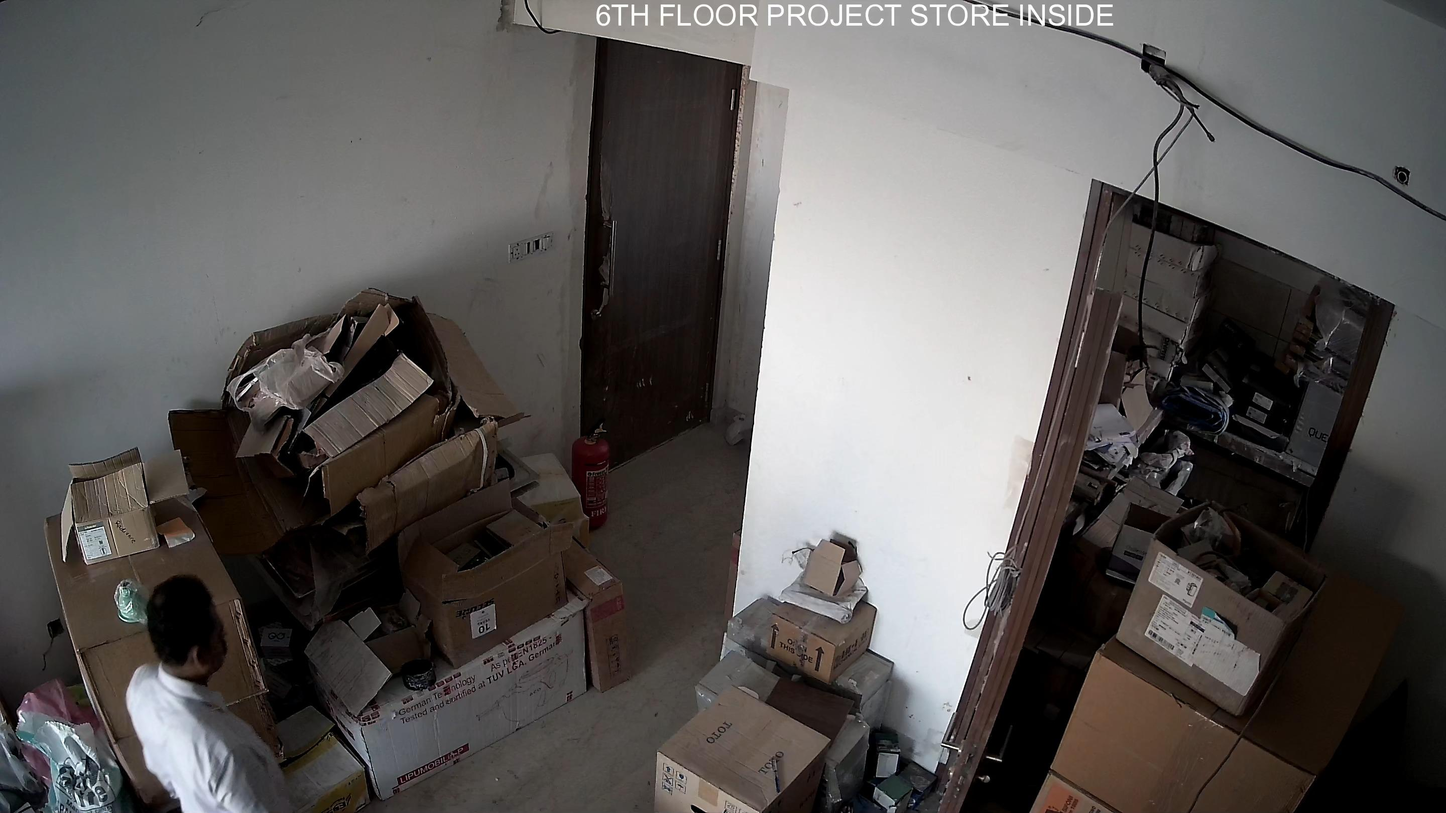Door-Close: (575, 33, 736, 456)
